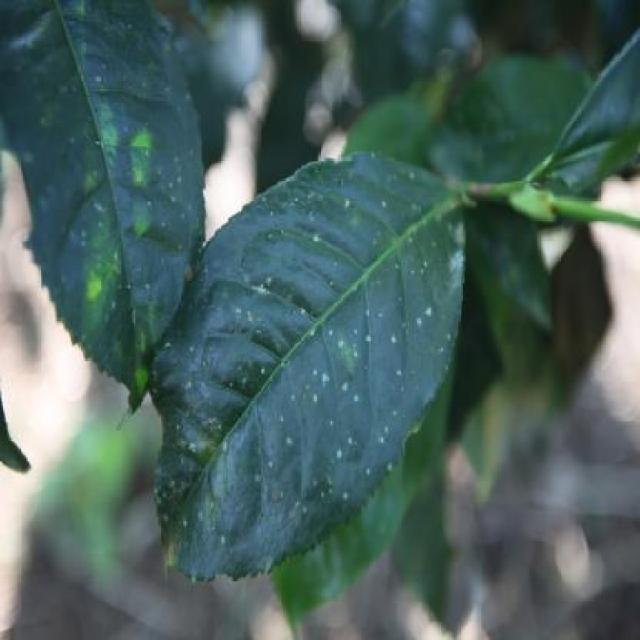White spot of tea: (152, 151, 463, 595)
